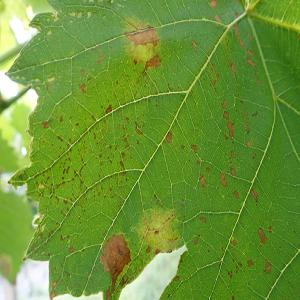Folha: (4, 0, 299, 298)
Fungo: (133, 202, 180, 255), (99, 232, 131, 298), (124, 24, 162, 76), (125, 26, 159, 48), (144, 54, 162, 70), (234, 25, 244, 47), (257, 226, 267, 245), (226, 120, 234, 136), (263, 258, 271, 274), (250, 186, 258, 202), (219, 172, 227, 186), (198, 174, 206, 188), (228, 60, 236, 74), (191, 38, 197, 53), (165, 131, 172, 143), (79, 82, 86, 94), (246, 57, 254, 67), (246, 48, 254, 57), (105, 104, 112, 114), (251, 109, 259, 117), (221, 99, 227, 109), (209, 0, 216, 8), (199, 216, 206, 223), (191, 144, 197, 152), (234, 190, 240, 198), (230, 150, 236, 158), (222, 110, 228, 118), (231, 238, 237, 246), (42, 120, 48, 128), (247, 259, 253, 266), (268, 225, 272, 233), (231, 168, 235, 176), (194, 236, 198, 244), (146, 245, 150, 252), (246, 140, 250, 146), (180, 144, 184, 149), (205, 167, 209, 172), (196, 160, 200, 164)
